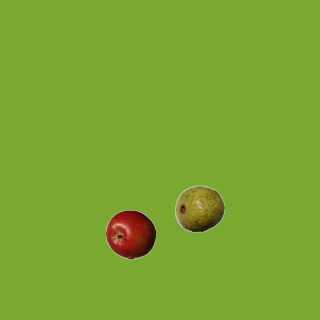Apple Braeburn: (105, 209, 155, 259)
Guava: (174, 183, 224, 233)
